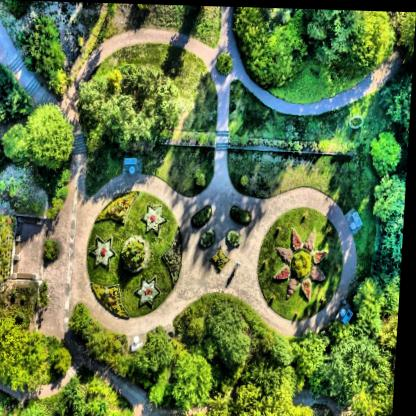tree-top: (85, 57, 180, 158), (3, 99, 74, 166), (237, 353, 312, 416), (306, 7, 362, 74), (206, 305, 261, 368), (247, 24, 304, 83), (330, 317, 387, 374), (349, 8, 398, 63), (12, 332, 52, 392), (176, 352, 218, 407), (369, 172, 408, 229), (355, 371, 399, 416), (380, 72, 413, 132), (299, 331, 334, 385), (133, 329, 173, 374), (368, 125, 409, 168), (0, 320, 24, 380), (86, 382, 116, 416), (61, 378, 85, 416), (53, 348, 80, 381), (125, 238, 150, 271), (396, 9, 416, 50), (212, 48, 235, 77)
